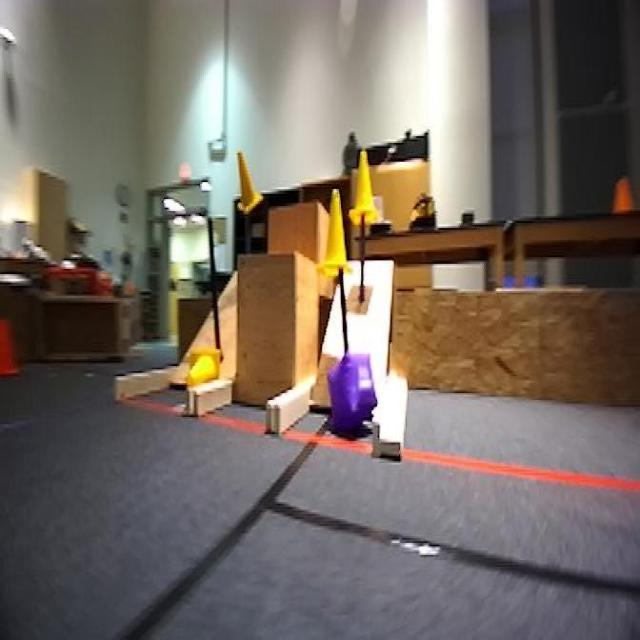frc_cone: (318, 189, 352, 277), (349, 151, 377, 223), (236, 148, 263, 215), (187, 349, 221, 391)
frc_cube: (328, 352, 377, 429)
